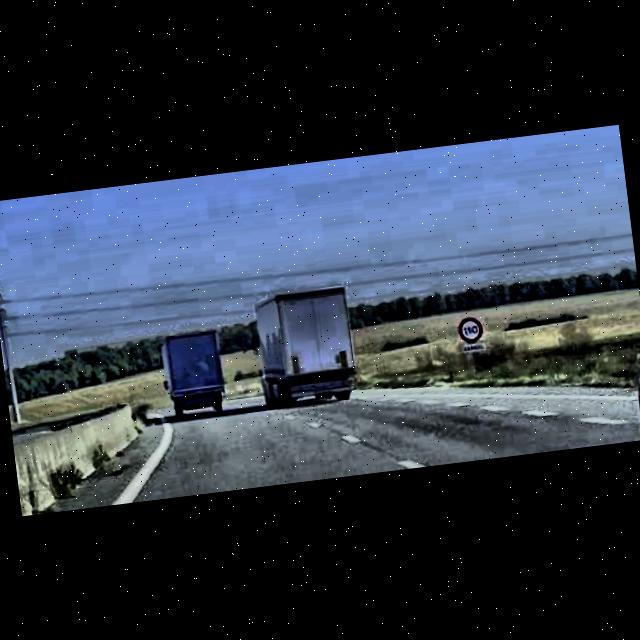speed_110: (456, 314, 484, 344)
